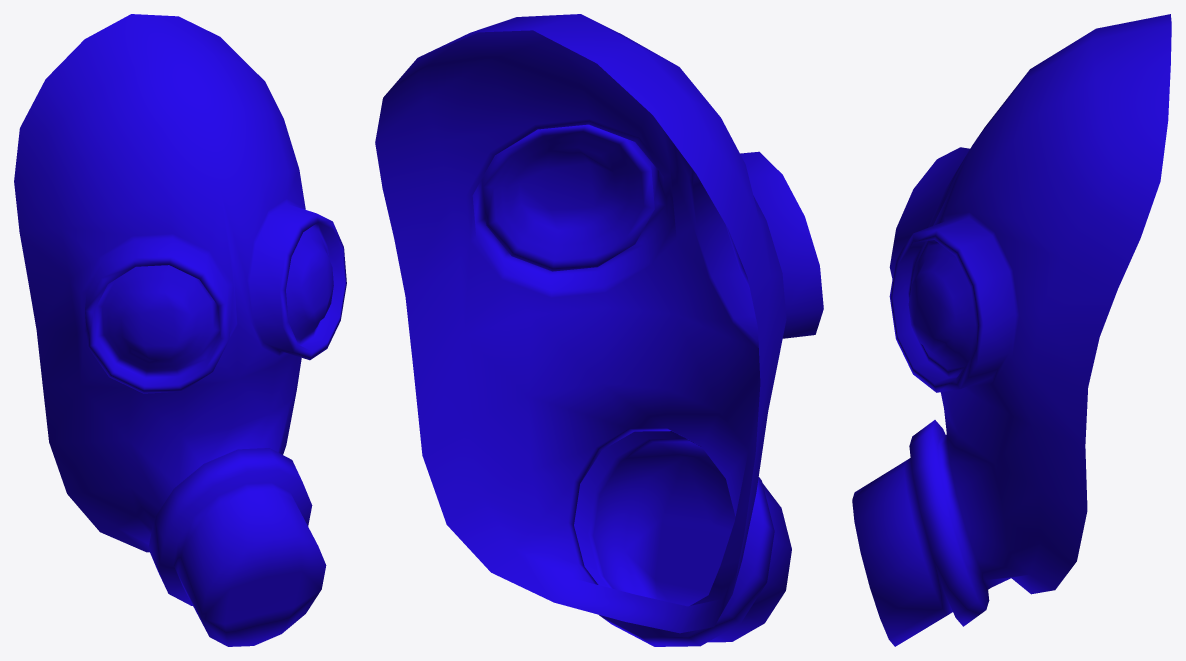
Rendered from GasMask.fbx.
3 views of the same model, side by side, from view 1: azimuth 30°, elevation 25°; view 2: azimuth 150°, elevation 25°; view 3: azimuth 270°, elevation 25° (orthographic). The views are drawn at different scales.
Visible parts, largest first — view 1: Gas Mask; view 2: Gas Mask; view 3: Gas Mask.
Part boxes in pixels (x1,y1,x2,y2): Gas Mask: (14,14,346,646); Gas Mask: (375,14,823,646); Gas Mask: (852,14,1171,646).
Bounding box in the file's own units: 51.41 × 98.55 × 46.5.
